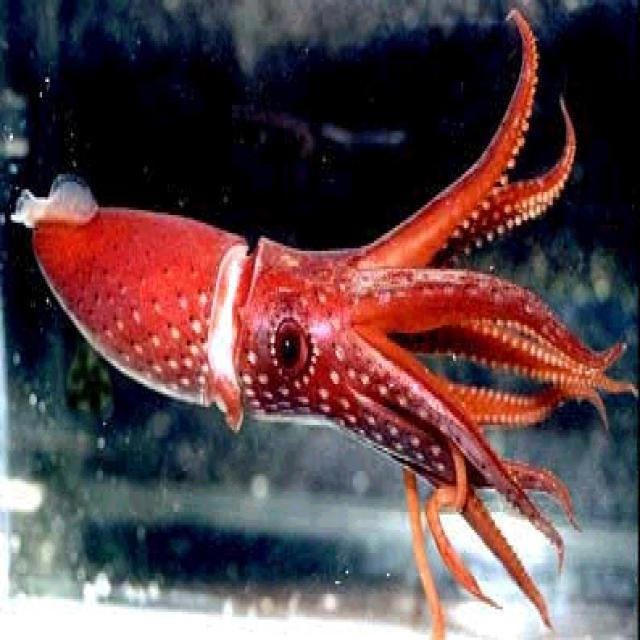SQUID: (5, 99, 635, 531)
